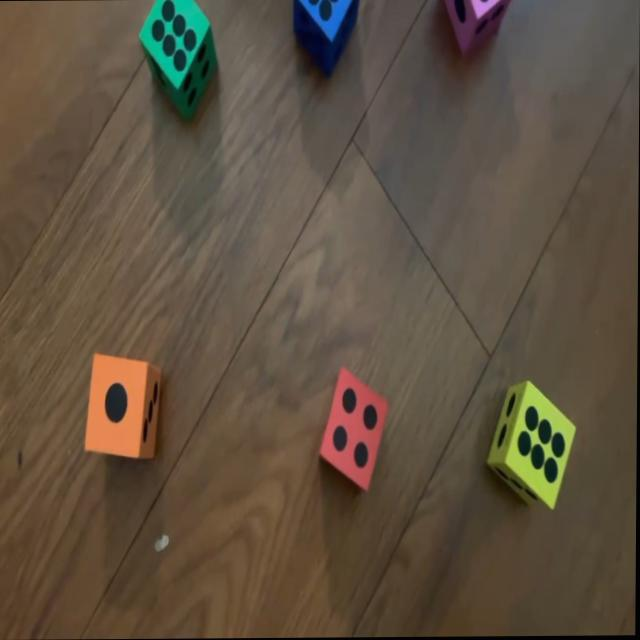blue_block: (294, 0, 360, 74)
red_block: (321, 365, 388, 491)
